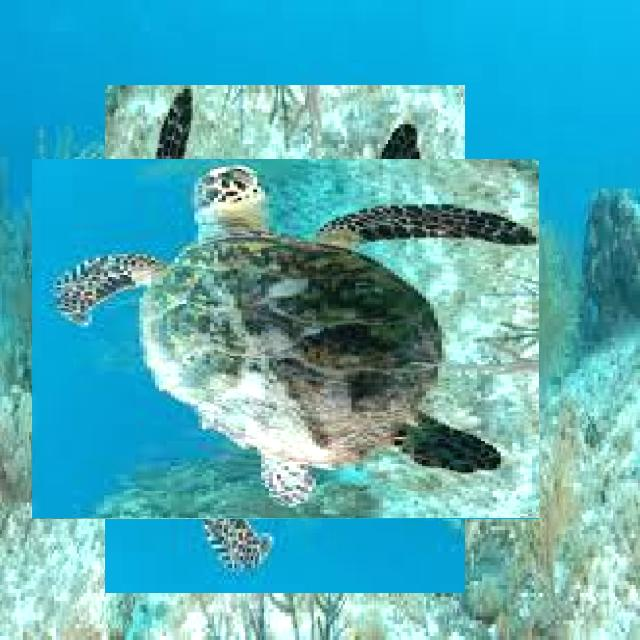Sea turtle: (69, 122, 502, 556)
